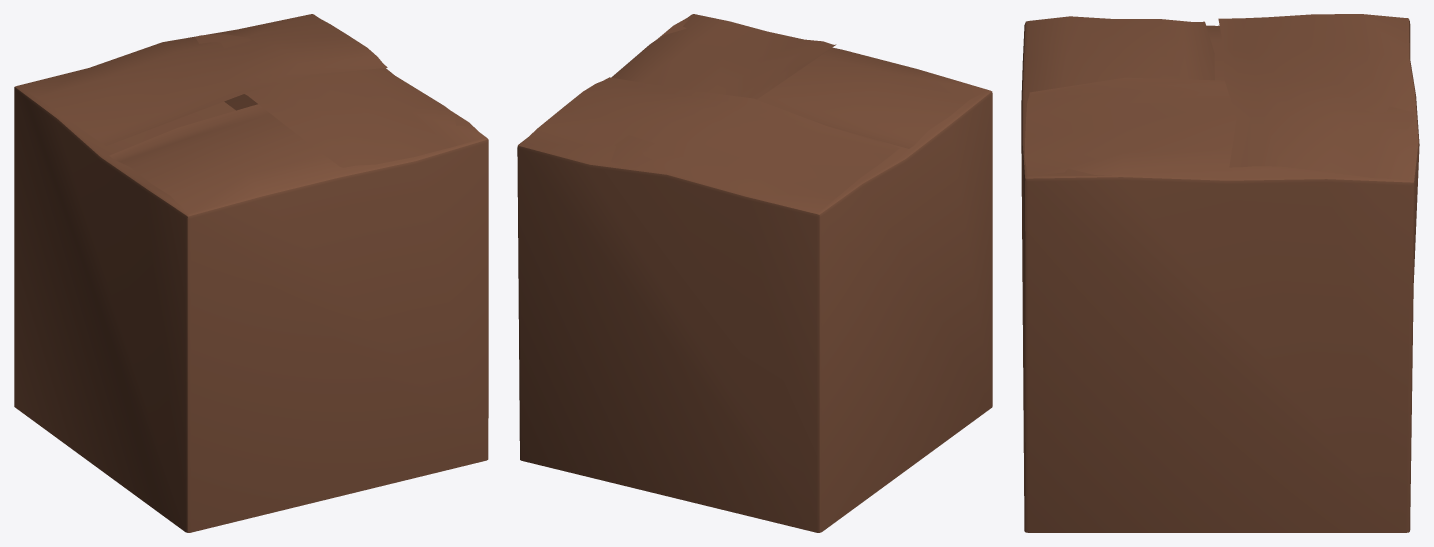
Rendered from CardboardBox_4.fbx.
3 views of the same model, side by side, from view 1: azimuth 30°, elevation 25°; view 2: azimuth 150°, elevation 25°; view 3: azimuth 270°, elevation 25° (orthographic). The views are drawn at different scales.
Visible parts, largest first — view 1: Cube.004; view 2: Cube.004; view 3: Cube.004.
Boxes of the visible parts, x1,y1,x2,y2 form: Cube.004: (14, 14, 488, 532); Cube.004: (517, 14, 992, 532); Cube.004: (1021, 14, 1419, 532).
Bounding box in the file's own units: 58.21 × 62.08 × 60.
